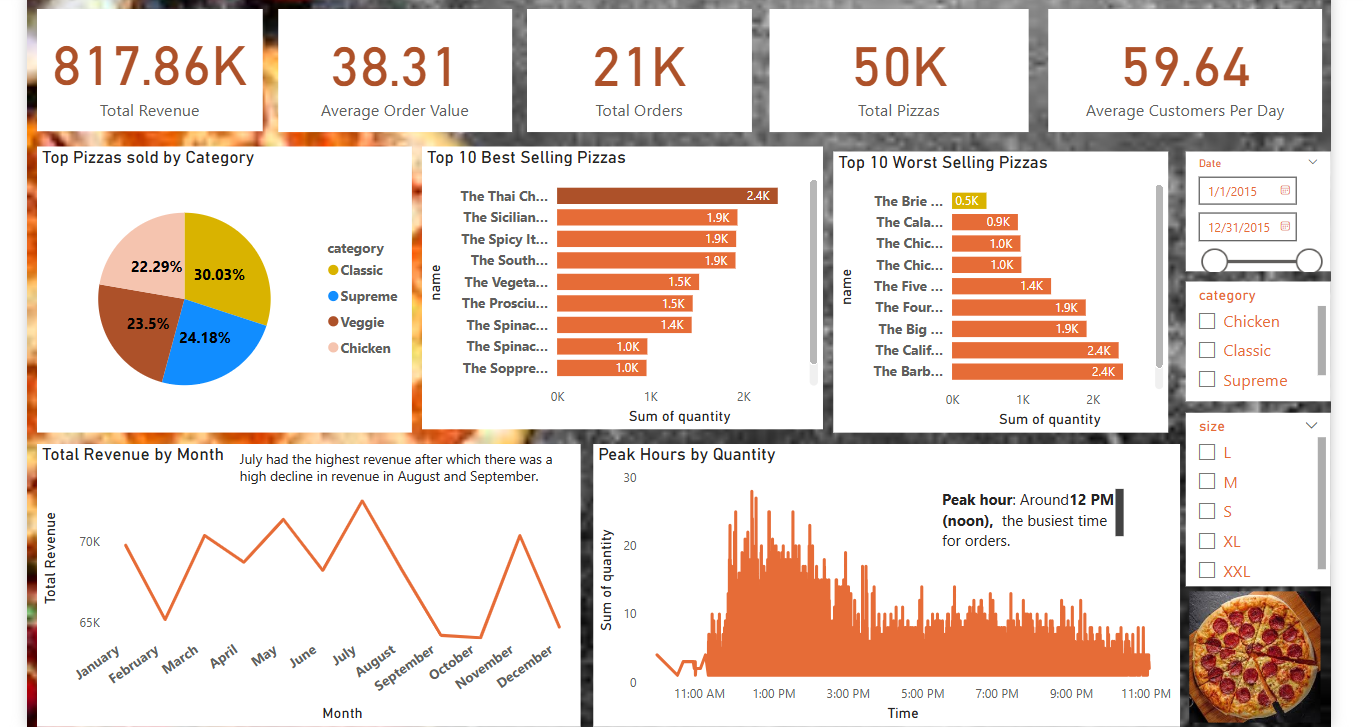

The dashboard page shown, as its layout file describes it:
{"tool":"powerbi","page":{"name":"Page 1","canvas":[1280,720],"ordinal":0},"visuals":[{"type":"card","fields":{"Values":["order_details.Total Revenue"]},"box":[10,15,221.7,120],"z":0},{"type":"card","fields":{"Values":["order_details.Total Orders"]},"box":[490.8,14.7,220.4,120.5],"z":1000},{"type":"card","fields":{"Values":["order_details.Total Pizzas"]},"box":[728.8,14.7,254.2,120.5],"z":2000},{"type":"card","fields":{"Values":["order_details.Average Order Value"]},"box":[246.9,14.7,229.2,120.5],"z":3000},{"type":"lineChart","fields":{"Y":["order_details.Total Revenue"],"Category":["Calendar.Date.Variation.Date Hierarchy.Month"]},"box":[10.3,442.3,533.4,277.7],"z":4000},{"type":"barChart","title":"Top 10 Best Selling Pizzas","fields":{"Y":["Sum(order_details.quantity)"],"Category":["order_details.name"]},"box":[387.9,149.9,393.8,277.7],"z":5000},{"type":"barChart","title":"Top 10 Worst Selling Pizzas","fields":{"Category":["order_details.name"],"Y":["Sum(order_details.quantity)"]},"box":[792,154.3,329.1,276.2],"z":6000},{"type":"pieChart","title":"Top Pizzas sold by Category","fields":{"Category":["order_details.category"],"Y":["Sum(order_details.quantity)"]},"box":[10.1,149.5,367.9,280.5],"z":7000},{"type":"lineChart","title":"Peak Hours by Quantity","fields":{"Category":["order_details.Time"],"Y":["Sum(order_details.quantity)"]},"box":[555.4,442.3,576,277.7],"z":8000},{"type":"slicer","fields":{"Values":["order_details.category"]},"box":[1131.4,282.1,148.4,117.6],"z":9000},{"type":"slicer","fields":{"Values":["Calendar.Date"]},"box":[1131.4,154.3,148.4,117.6],"z":10000},{"type":"slicer","fields":{"Values":["order_details.size"]},"box":[1137.3,411.4,142.5,170.4],"z":11000},{"type":"card","fields":{"Values":["order_details.Average Customers Per Day"]},"box":[1002.1,14.7,268.9,120.5],"z":12000},{"type":"image","box":[1103.5,581.9,176.3,138.1],"z":13000},{"type":"textbox","box":[893.4,480.5,188.1,76.4],"z":13001},{"type":"textbox","box":[204.2,442.3,339.4,54.4],"z":13002}]}

Visuals, with their boxes in screenshot pixels (x1, y1, x2, y2):
card - order_details.Total Revenue: l=25, t=5, r=254, b=129
card - order_details.Total Orders: l=521, t=5, r=749, b=129
card - order_details.Total Pizzas: l=767, t=5, r=1030, b=129
card - order_details.Average Order Value: l=269, t=5, r=506, b=129
lineChart - order_details.Total Revenue x Calendar.Date.Variation.Date Hierarchy.Month: l=25, t=446, r=576, b=726
"Top 10 Best Selling Pizzas" barChart: l=415, t=144, r=822, b=431
"Top 10 Worst Selling Pizzas" barChart: l=833, t=149, r=1173, b=434
"Top Pizzas sold by Category" pieChart: l=25, t=144, r=405, b=434
"Peak Hours by Quantity" lineChart: l=588, t=446, r=1183, b=726
slicer - order_details.category: l=1183, t=281, r=1337, b=402
slicer - Calendar.Date: l=1183, t=149, r=1337, b=270
slicer - order_details.size: l=1189, t=414, r=1337, b=591
card - order_details.Average Customers Per Day: l=1050, t=5, r=1327, b=129
image: l=1154, t=591, r=1337, b=726
textbox: l=937, t=486, r=1132, b=565
textbox: l=225, t=446, r=576, b=503
